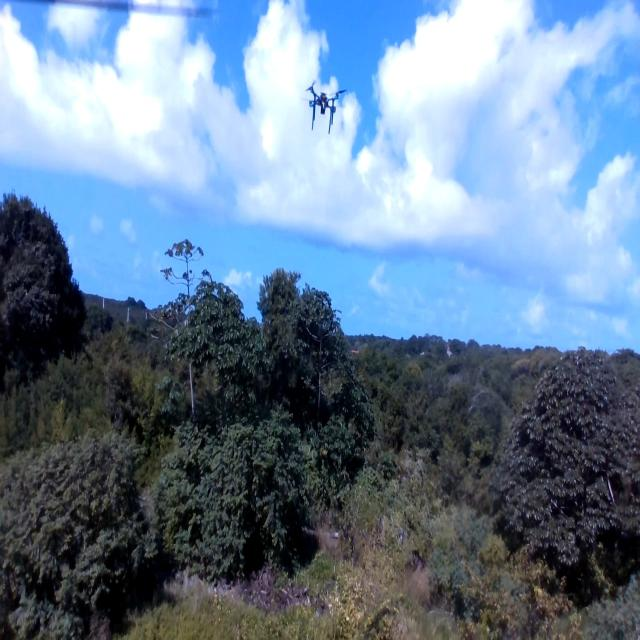-uav-: (301, 76, 346, 138)
